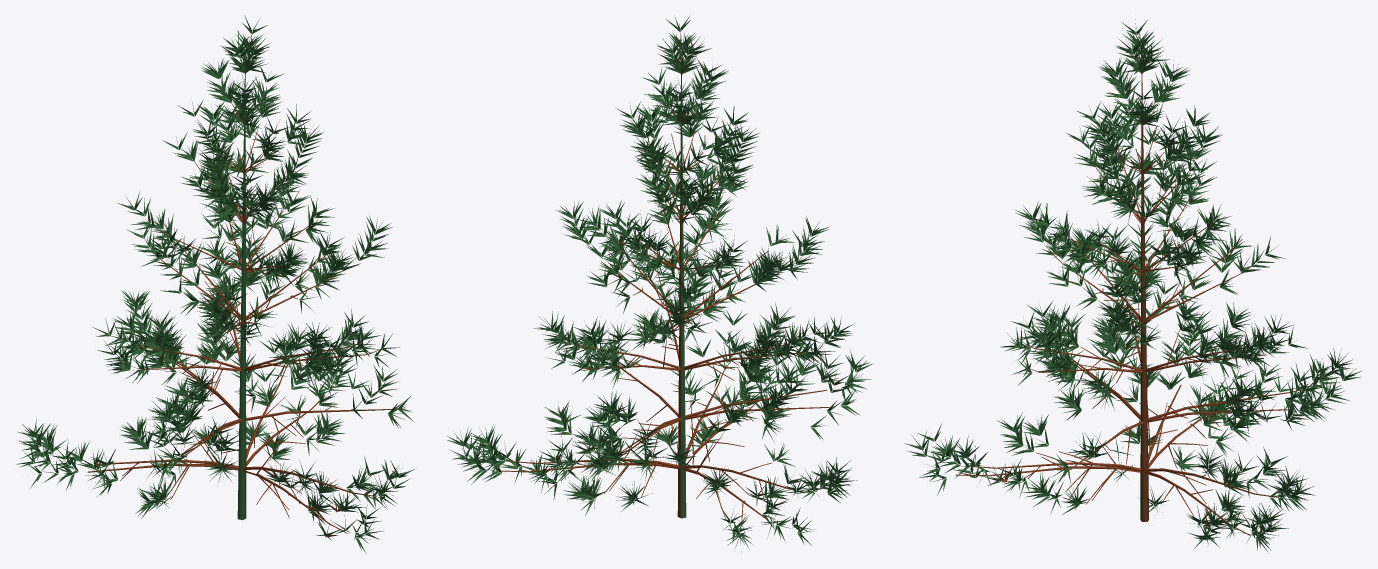
The model's file is tree-04.fbx.
3 renders of one model, left to right at view 1: azimuth 30°, elevation 25°; view 2: azimuth 150°, elevation 25°; view 3: azimuth 270°, elevation 25°, orthographic.
Parts seen in each view (by area): view 1: polymsh; view 2: polymsh; view 3: polymsh.
Boxes of the visible parts, x1,y1,x2,y2 form: polymsh: (16, 15, 414, 552); polymsh: (447, 15, 872, 552); polymsh: (904, 19, 1361, 551).
Bounding box in the file's own units: 112 × 144 × 119.
